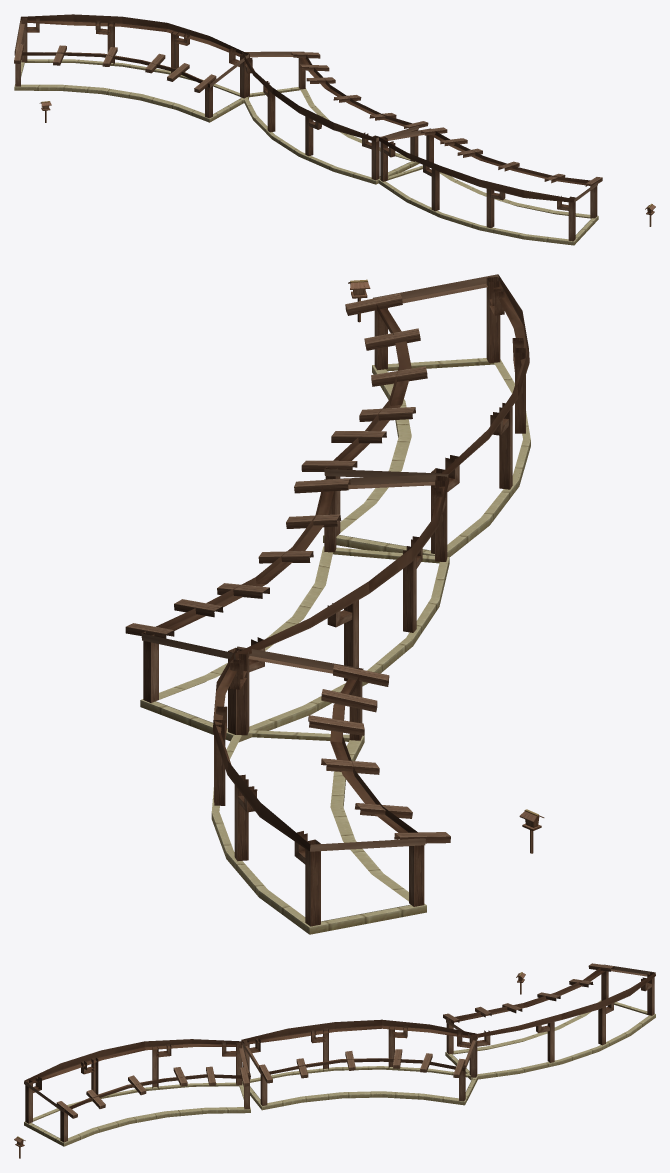
File: Area_13_30.fbx
The picture shows the model from 3 angles, top to bottom: view 1: azimuth 30°, elevation 25°; view 2: azimuth 150°, elevation 25°; view 3: azimuth 270°, elevation 25°; orthographic projection. The views are drawn at different scales.
Parts seen in each view (by area): view 1: Area_13_30; view 2: Area_13_30; view 3: Area_13_30.
Boxes of the visible parts, x1,y1,x2,y2 form: Area_13_30: (14, 14, 655, 245); Area_13_30: (125, 274, 544, 934); Area_13_30: (14, 963, 655, 1158).
Bounding box in the file's own units: 3954 × 546 × 6329.
